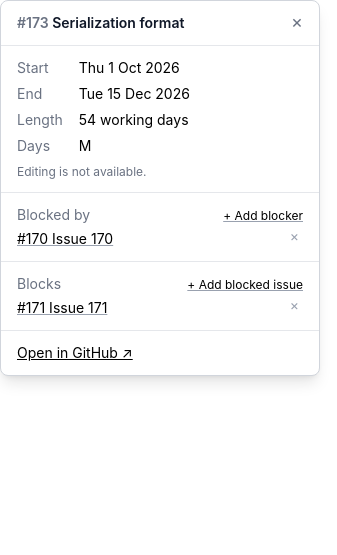
TaskDetail › blocking links › offers loaded issues, minus itself and existing blockers, and flags a loop
Step 1. Click the button "+ Add blocker" → (263, 216), box x1=223 y1=208 x2=303 y2=224
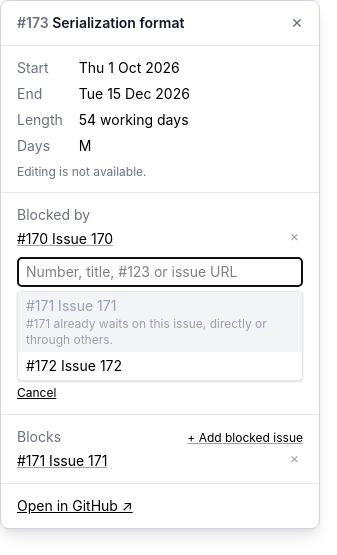
Result: the option that starts with "#171 Issue 171" is shown at x1=18 y1=292 x2=302 y2=352
Result: the option that starts with "#171 Issue 171" shows "already waits on this issue" at x1=18 y1=292 x2=302 y2=352
Result: the text "#172 Issue 172" is shown at x1=26 y1=357 x2=122 y2=374
